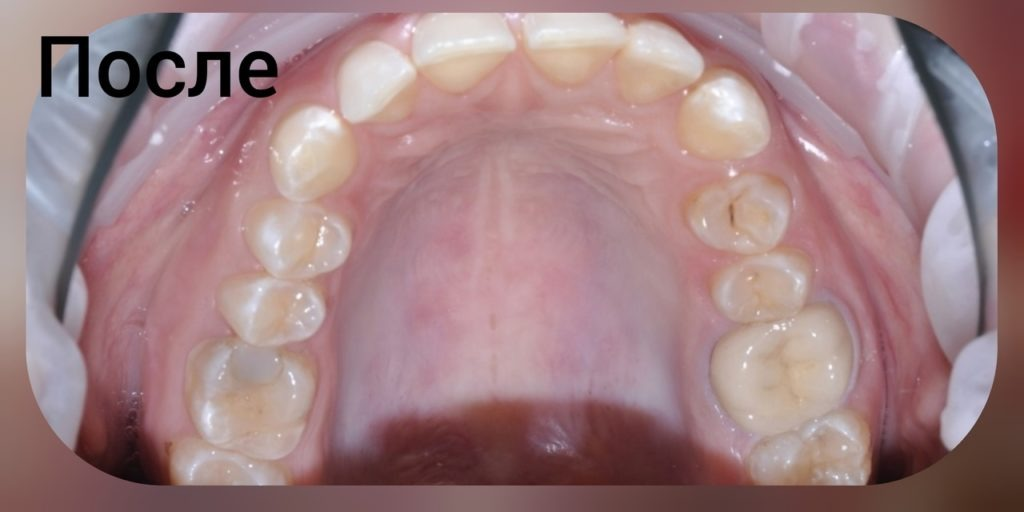UL1BC_decay: (689, 175, 789, 254)
UL1M_healthy: (713, 305, 849, 430)
UL2BC_healthy: (714, 250, 807, 319)
UL2M_healthy: (753, 416, 866, 484)
ULCI_healthy: (523, 13, 625, 84)
ULC_healthy: (683, 69, 771, 160)
ULLI_healthy: (620, 20, 701, 103)
UR1BC_healthy: (250, 200, 351, 278)
UR1M_healthy: (192, 343, 312, 459)
UR2BC_healthy: (224, 279, 325, 343)
URCI_healthy: (414, 12, 513, 90)
URC_healthy: (272, 105, 353, 200)
URLI_healthy: (338, 42, 413, 123)
